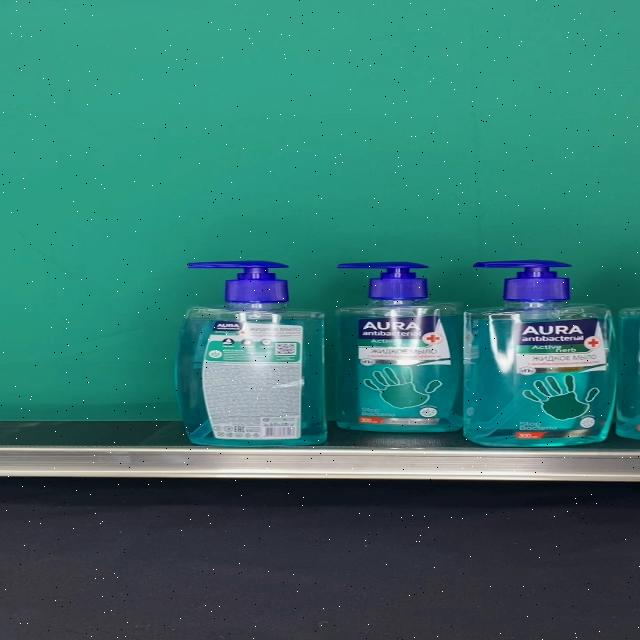Bottle: (464, 259, 620, 447), (176, 260, 327, 448), (334, 261, 466, 432)
Cap: (187, 260, 288, 302), (472, 260, 572, 302), (335, 261, 430, 299)
